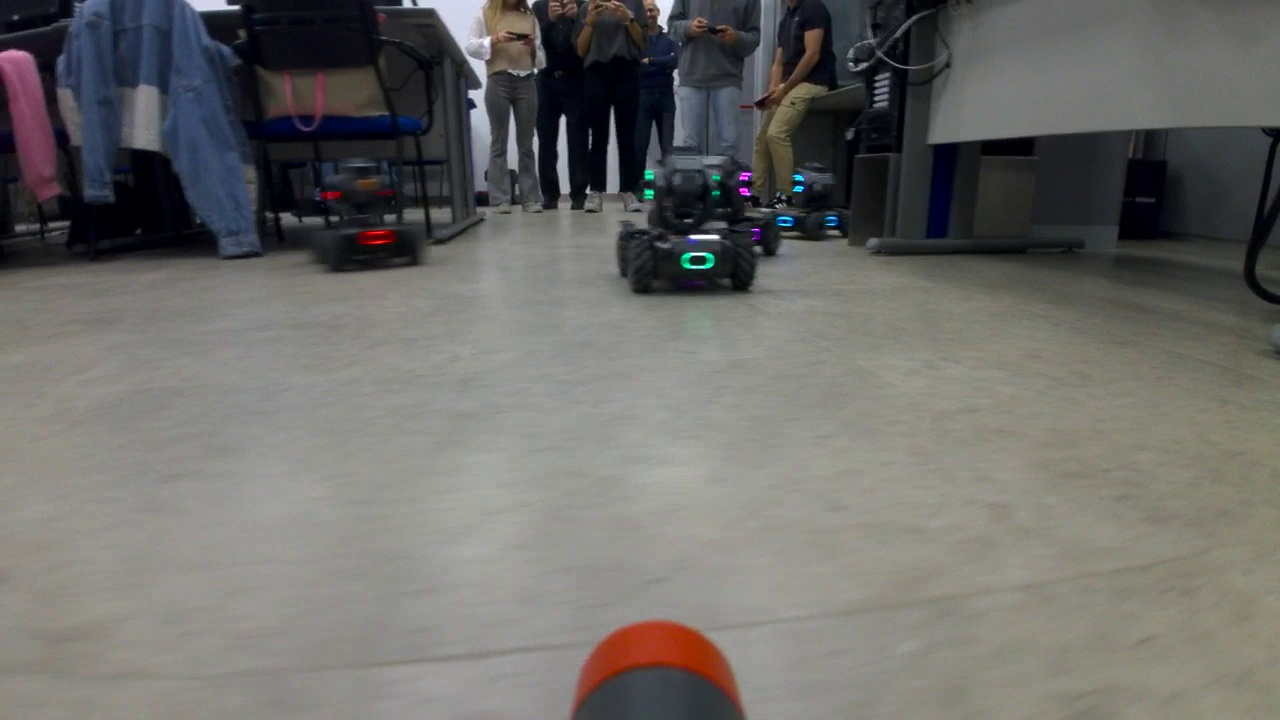robot: (611, 149, 756, 299), (298, 160, 427, 278), (776, 164, 854, 246), (738, 165, 782, 257)
